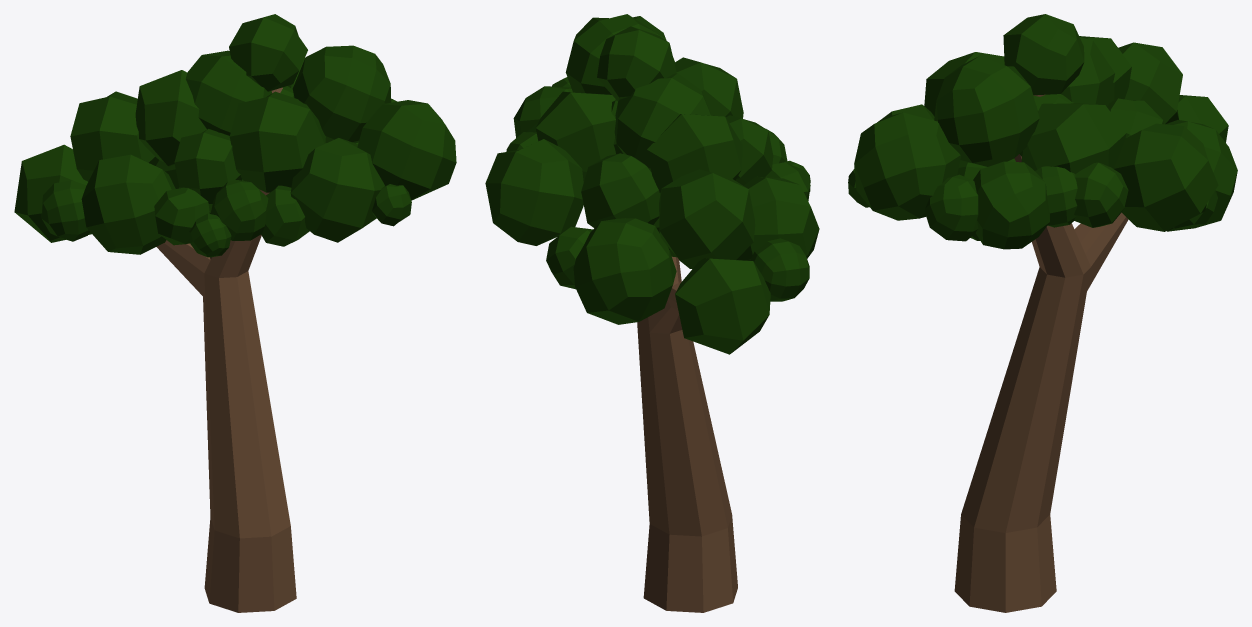
File: M_tree3.fbx
3 views of the same model, side by side, from view 1: azimuth 30°, elevation 25°; view 2: azimuth 150°, elevation 25°; view 3: azimuth 270°, elevation 25° (orthographic). The views are drawn at different scales.
Visible parts, largest first — view 1: leaf2; view 2: leaf2; view 3: leaf2.
Boxes of the visible parts, <box> form: leaf2: <box>14,14,456,612</box>; leaf2: <box>485,14,819,612</box>; leaf2: <box>848,14,1237,612</box>.
Size of the model in its own units: 34.73 by 56.34 by 33.5.
